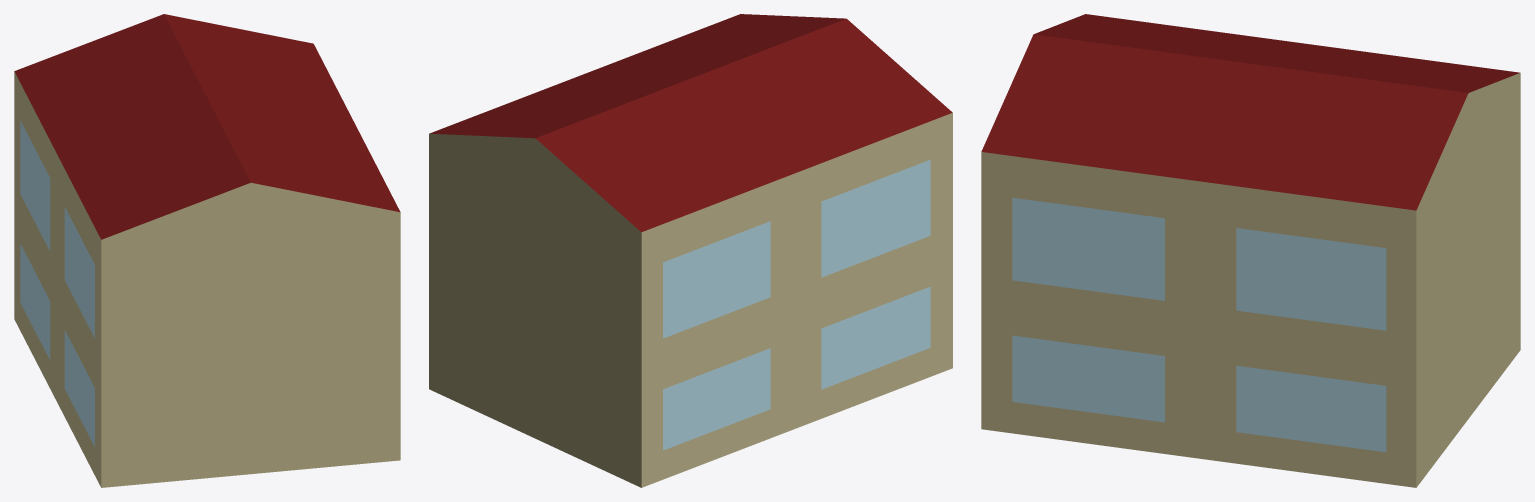
Rendered from house.dae.
3 renders of one model, left to right at view 1: azimuth 30°, elevation 25°; view 2: azimuth 150°, elevation 25°; view 3: azimuth 270°, elevation 25°, orthographic. The views are drawn at different scales.
Parts seen in each view (by area): view 1: Cube.9; view 2: Cube.9; view 3: Cube.9.
Boxes of the visible parts, x1,y1,x2,y2 form: Cube.9: (14, 14, 400, 487); Cube.9: (429, 14, 952, 487); Cube.9: (981, 14, 1520, 487).
Size of the model in its own units: 286 by 221 by 331.
